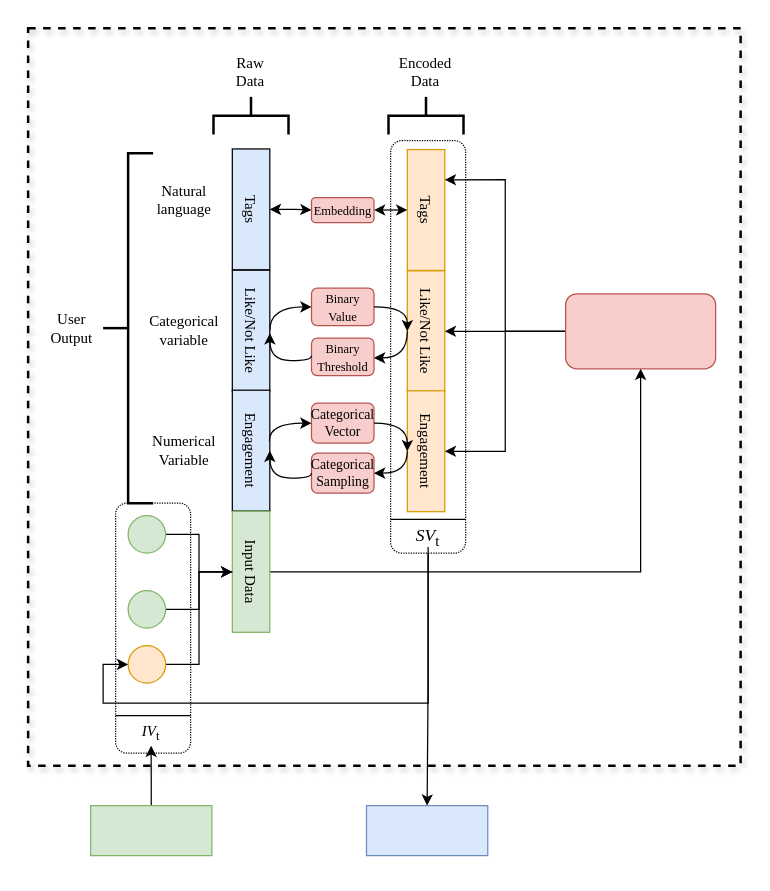
The diagram is 770 pixels wide and 891 high, and some of its shapes have lost their labels. Here are the shapes that lost their labels. From the top down, the centre of each, then its label:
the point at 640,330: ML model
the point at 146,533: User
the point at 146,608: Video
the point at 146,663: SV t-1
the point at 150,830: User Features
the point at 426,830: User Experience Representation
